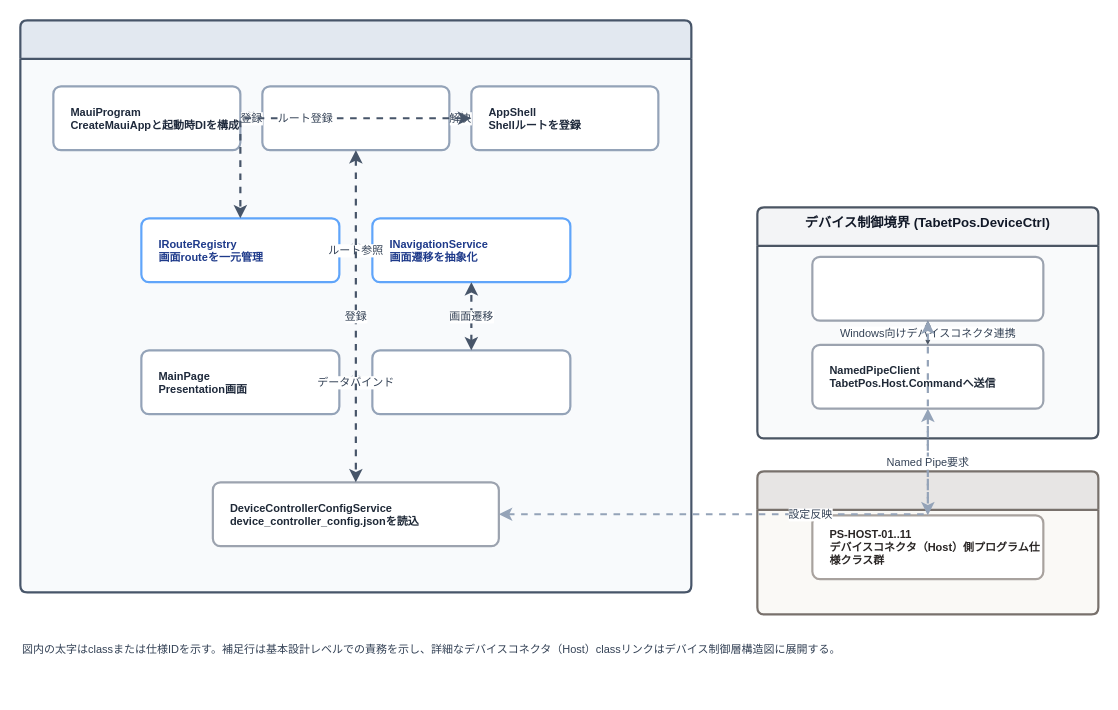
This 1118x710 diagram has some shape labels left out. The shapes that lost their labels are listed below. From the top down, each one's box as (x1, y1, x2, y2) in pixels, then its label:
(261, 85, 450, 151): DependencyInjection アプリケーションサービスを登録
(19, 19, 692, 593): 端末アプリケーション層 (TabetPos.Applications)
(811, 255, 1044, 321): DeviceManager 設定反映とstrategy解決を担当
(371, 349, 571, 415): MainPageViewModel 画面状態とcommandを保持
(756, 470, 1099, 615): デバイスコネクタ（Host）仕様 (TabetPos.Host)
